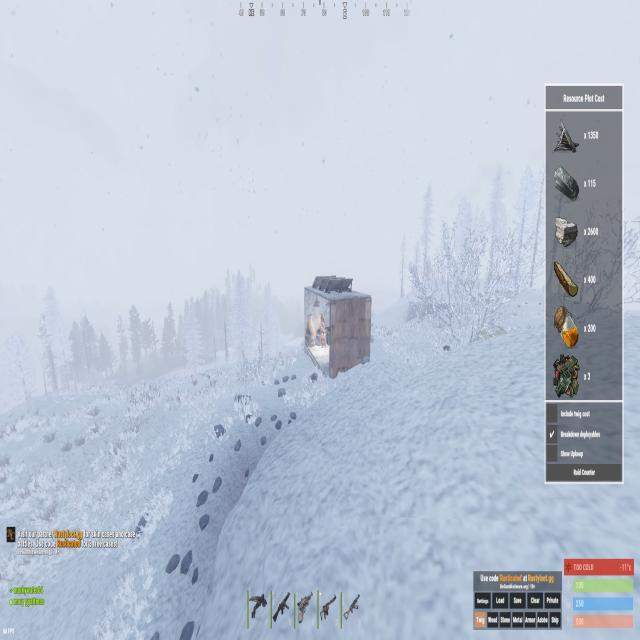Player: (319, 314, 326, 351)
